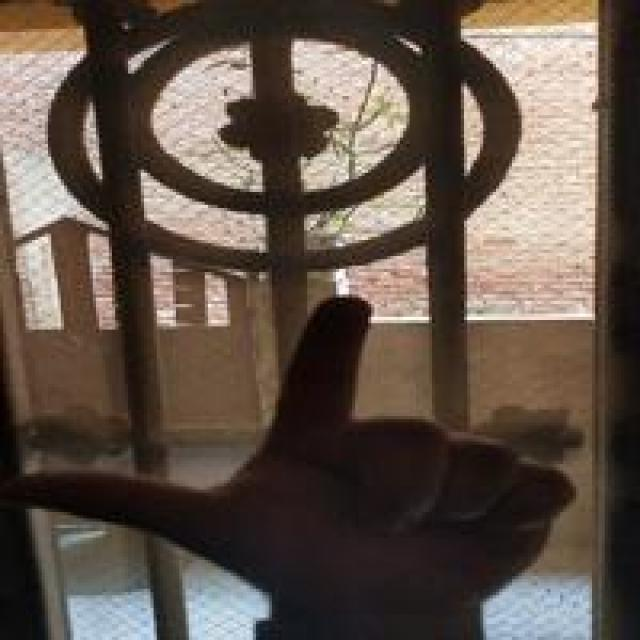L: (19, 286, 592, 622)
